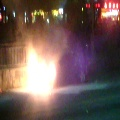fire: (20, 48, 56, 95)
